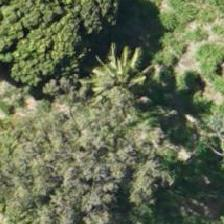coconut_tree: (75, 39, 165, 129)
